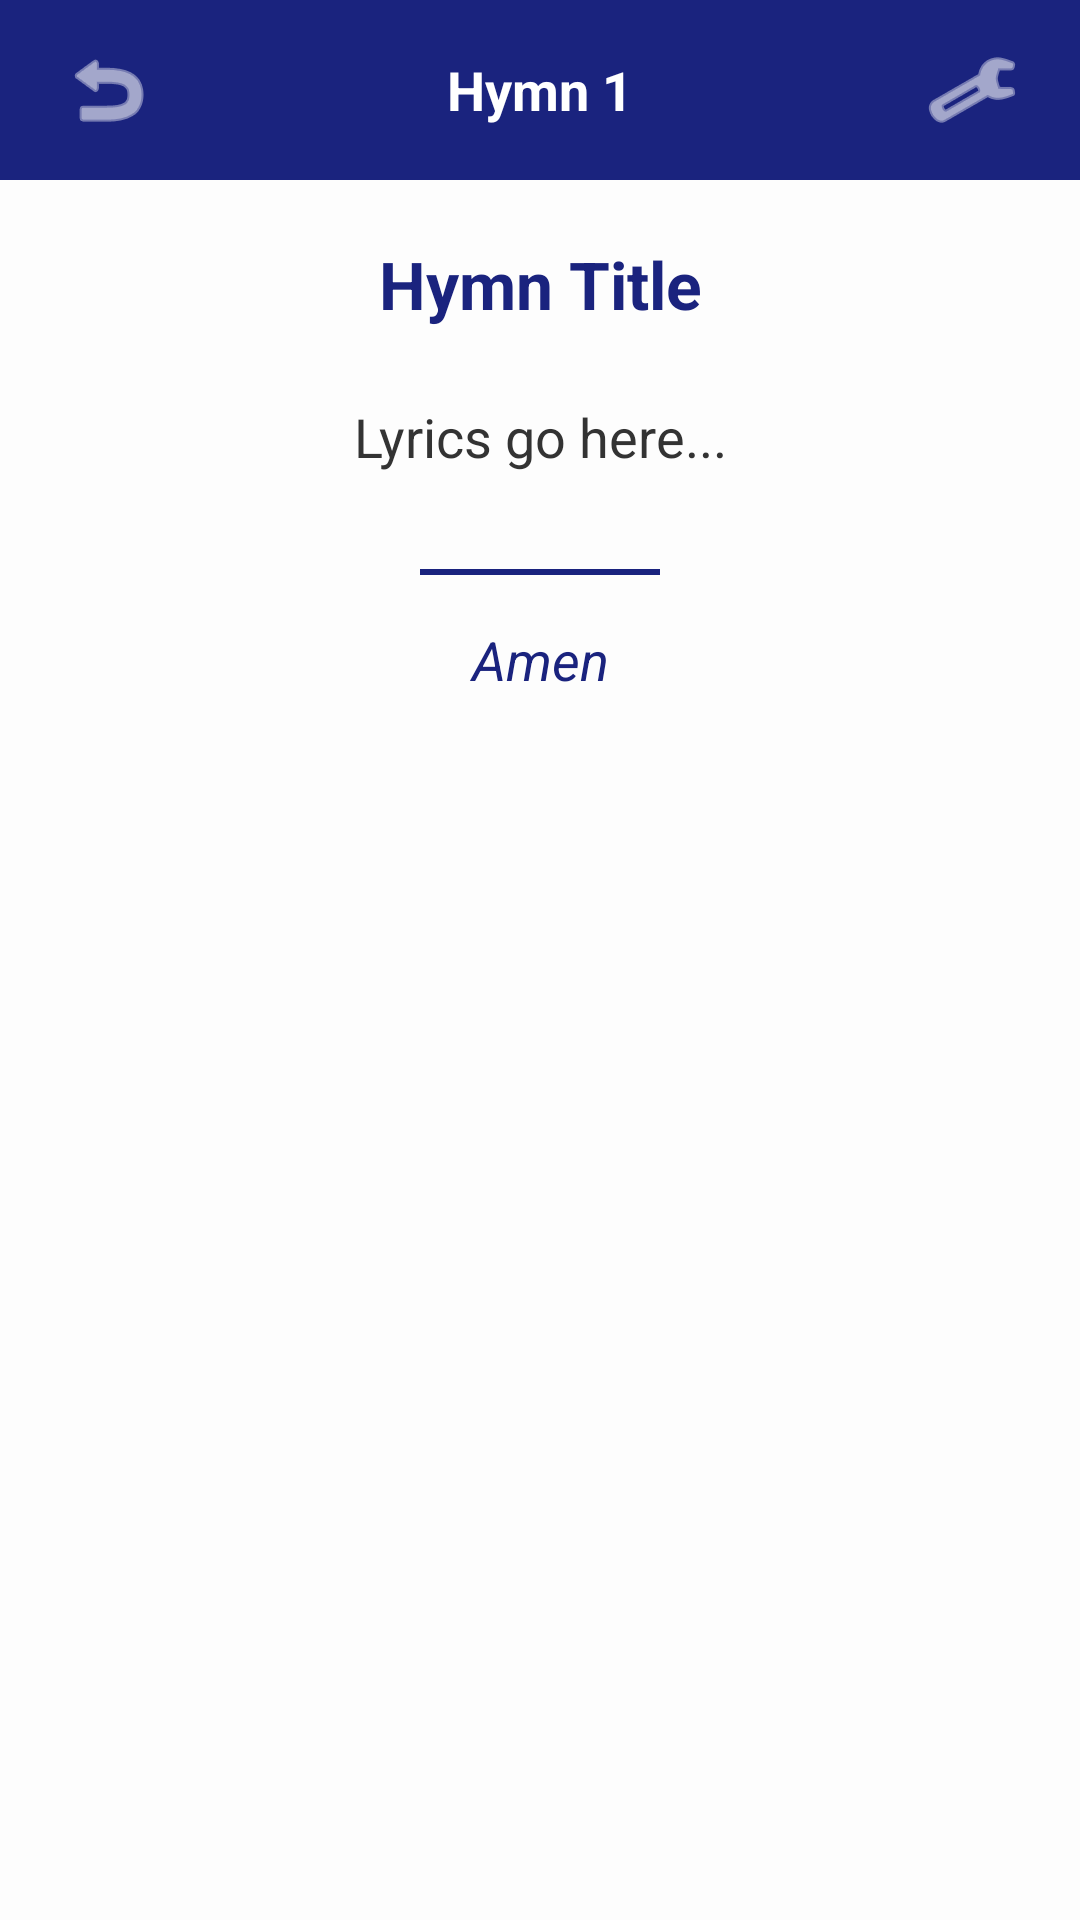

Screen size 1080x1920. Icon name, then its center in pixels as (x,y):
preferences: (972,90)
revert: (109,90)
